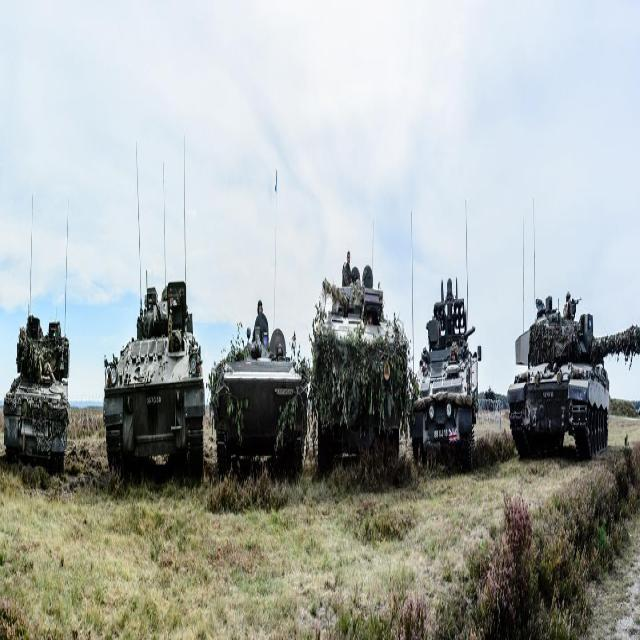Tanks: (100, 278, 204, 478), (508, 292, 626, 457), (211, 286, 304, 470), (317, 281, 403, 476), (5, 314, 68, 464), (418, 292, 476, 454)
